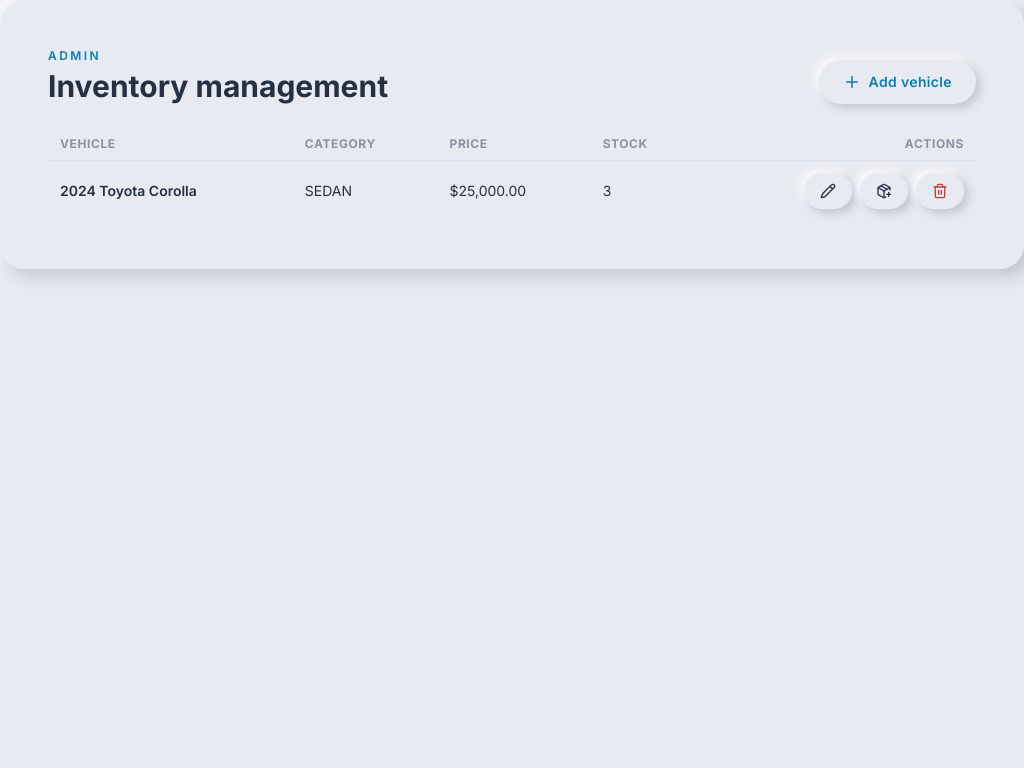
Test: AdminPage › renders vehicles and opens the add dialog
Expected: the text "2024 Toyota Corolla" is shown, [48,160,293,221]
Expected: the text "$25,000.00" is shown, [438,160,591,221]
Click the button "Add vehicle": (897, 82) [819,60,976,104]
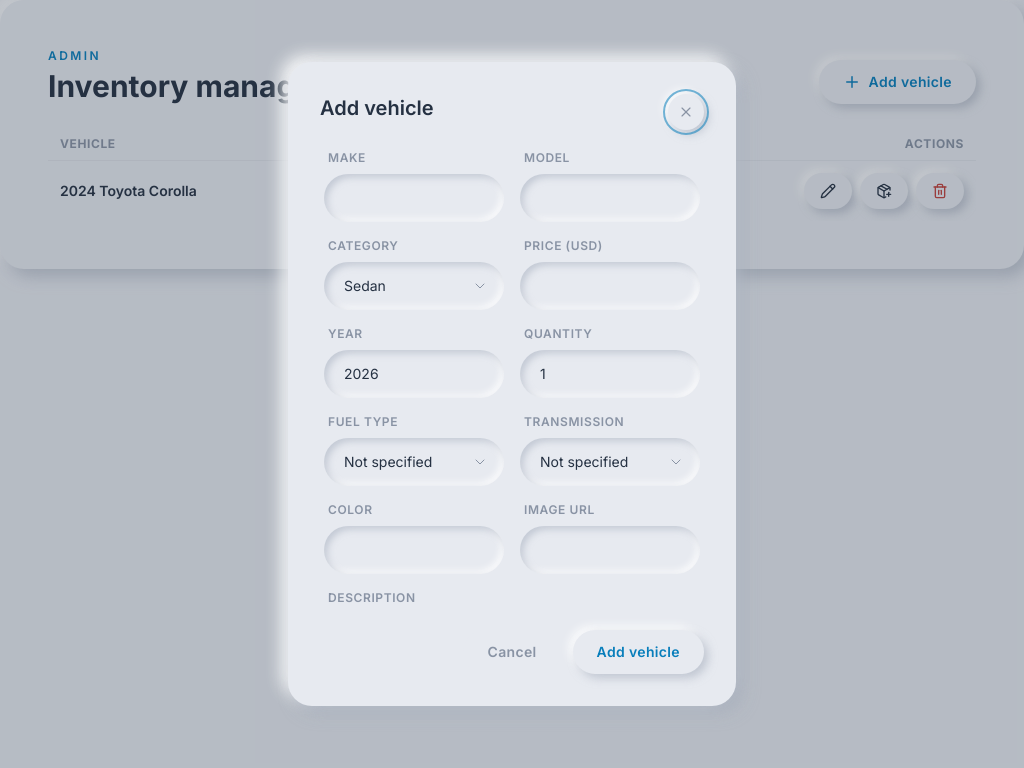
Result: the field labelled "Price (USD)" is shown at [520,262,700,310]
